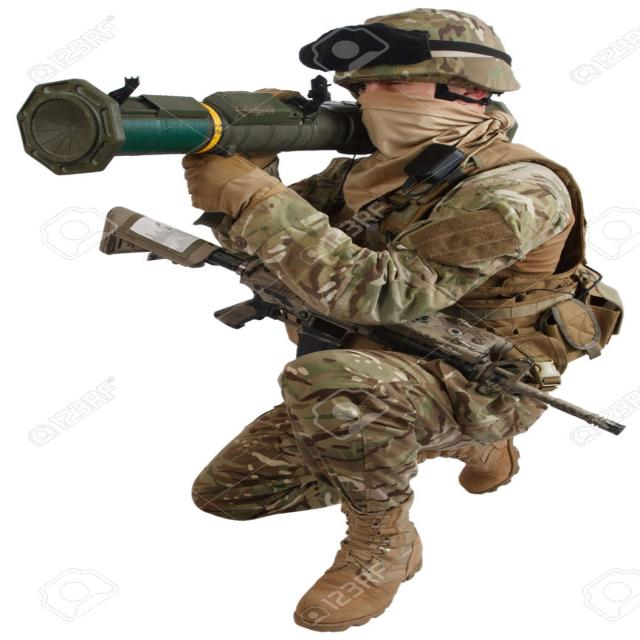bazooka: (1, 92, 377, 164)
